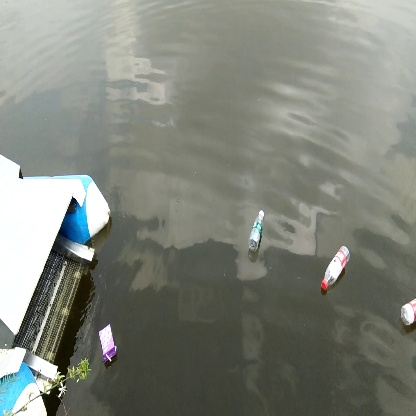bottle: (319, 245, 353, 293), (247, 208, 268, 252)
milk-box: (94, 321, 119, 365)
